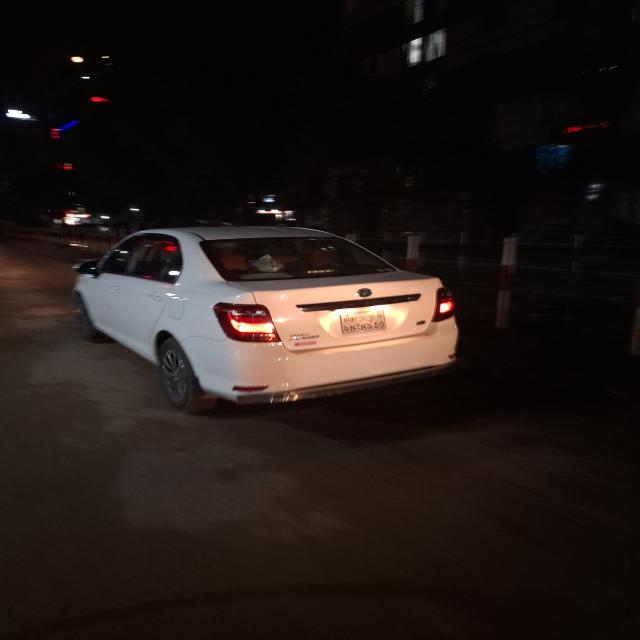car: (66, 217, 469, 418)
